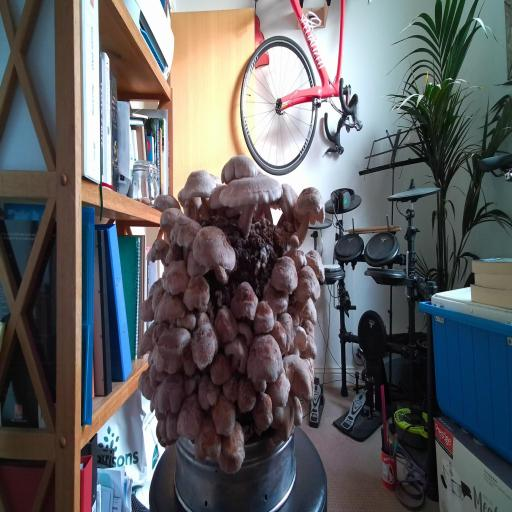Shiitake Mushroom: (199, 138, 303, 249), (173, 208, 258, 292), (136, 310, 208, 387), (272, 178, 343, 248), (278, 257, 331, 323), (160, 201, 209, 269), (208, 418, 256, 484), (220, 276, 270, 335), (170, 386, 211, 450), (263, 381, 304, 444), (178, 159, 220, 219), (184, 316, 225, 374), (251, 276, 300, 322), (204, 390, 244, 446), (219, 328, 257, 383), (150, 195, 189, 248), (279, 351, 317, 403), (245, 386, 283, 438), (260, 366, 298, 418), (246, 333, 284, 384), (216, 151, 268, 185), (209, 299, 243, 350), (190, 370, 225, 419), (128, 320, 166, 365), (298, 241, 335, 287), (176, 248, 217, 289), (153, 289, 187, 333), (205, 348, 236, 391), (160, 256, 191, 298), (270, 252, 300, 295), (194, 417, 221, 463), (264, 317, 296, 355), (276, 181, 300, 229), (144, 231, 172, 272), (158, 372, 185, 414), (230, 314, 260, 351), (143, 354, 171, 391), (150, 409, 174, 452), (218, 372, 244, 408), (184, 274, 209, 311), (298, 295, 324, 330), (145, 276, 169, 312), (278, 310, 296, 356), (173, 188, 196, 222), (135, 368, 156, 405), (206, 177, 227, 214), (253, 299, 275, 334), (237, 376, 257, 414), (290, 324, 311, 360), (179, 343, 199, 379), (283, 231, 303, 263), (289, 244, 310, 274), (296, 316, 322, 340), (183, 192, 203, 223), (163, 240, 185, 268), (258, 199, 280, 226), (152, 192, 181, 212), (137, 295, 155, 325), (174, 309, 199, 330), (301, 333, 318, 360), (293, 395, 304, 427), (166, 411, 178, 440), (182, 374, 197, 397), (150, 384, 160, 418), (195, 308, 211, 328), (205, 173, 225, 188)
